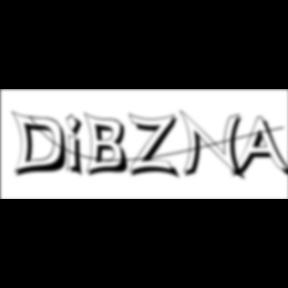B: (84, 111, 134, 179)
D: (12, 110, 74, 180)
N: (179, 109, 249, 183)
Z: (128, 112, 183, 181)
i: (66, 112, 90, 180)
